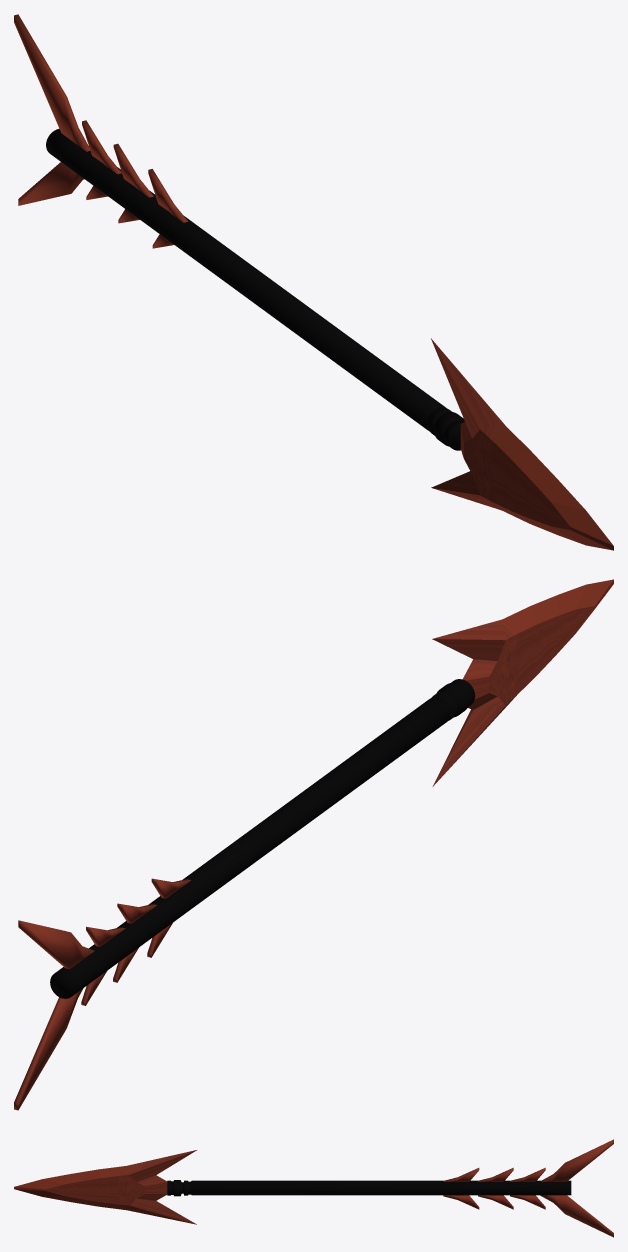
Rendered from Arrow_Fire.glb.
The picture shows the model from 3 angles, top to bottom: view 1: azimuth 30°, elevation 25°; view 2: azimuth 150°, elevation 25°; view 3: azimuth 270°, elevation 25°; orthographic projection. The views are drawn at different scales.
Parts seen in each view (by area): view 1: Arrow_Fire; view 2: Arrow_Fire; view 3: Arrow_Fire.
Boxes of the visible parts, box(x1,y1,x2,y2) form: Arrow_Fire: box(14, 14, 613, 550); Arrow_Fire: box(14, 579, 613, 1110); Arrow_Fire: box(14, 1139, 613, 1237).
Size of the model in its own units: 0.0217 by 0.1415 by 0.8.
2 materials, 1 textured.
